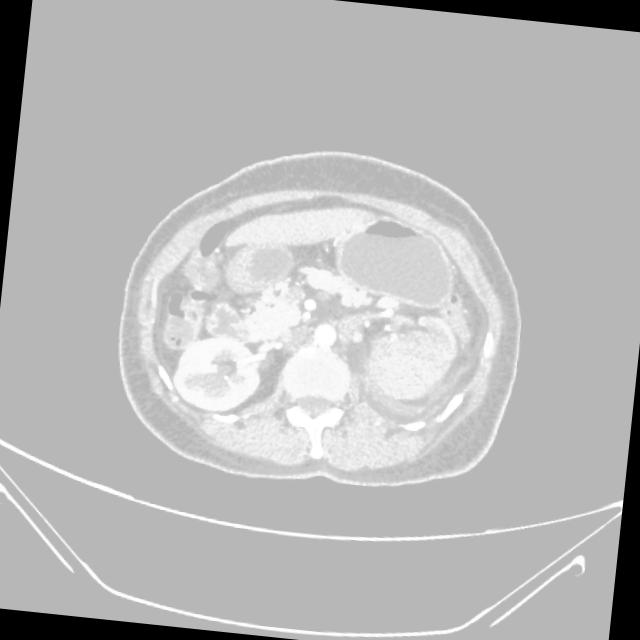TUMOR: (105, 156, 459, 394)
